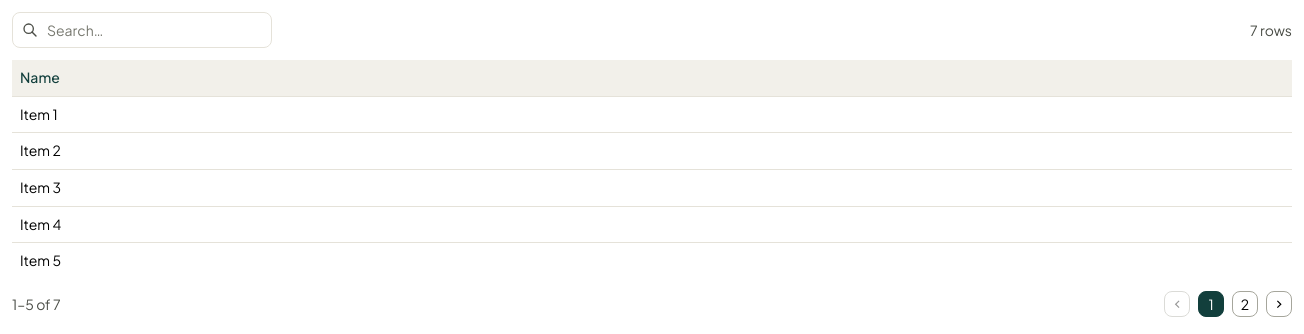
Scenario: DataTable › paginates when rows exceed pageSize and filters via the search box
This screenshot has width=1304, height=334.
expect the number of rows is 6: met, box 12,60 -> 1292,96; 12,96 -> 1292,133; 12,133 -> 1292,170; 12,170 -> 1292,206; 12,206 -> 1292,243; 12,243 -> 1292,279
expect the text "1–5 of 7" is shown: met, box 12,294 -> 60,314
In the field labelled "Search…": (142, 30) 12,12 -> 272,48, type "Item 3"
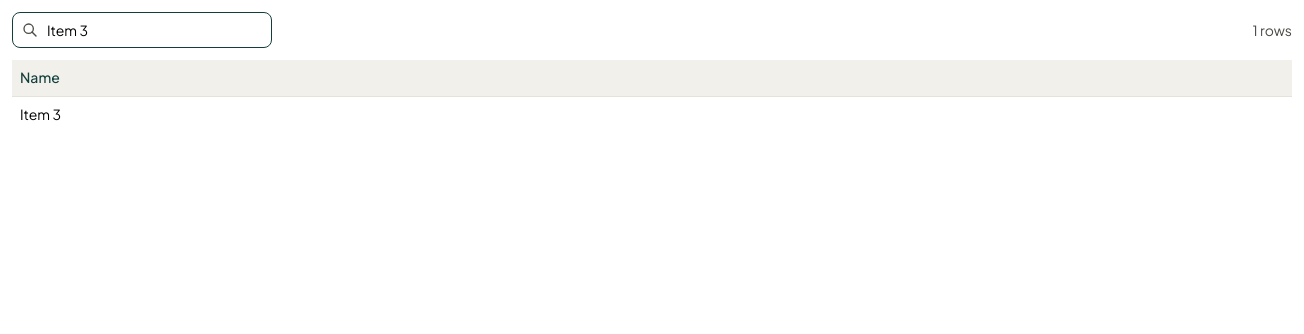
expect the text "Item 3" is shown: met, box 12,96 -> 1292,132
expect the text "Item 1" is gone: met
